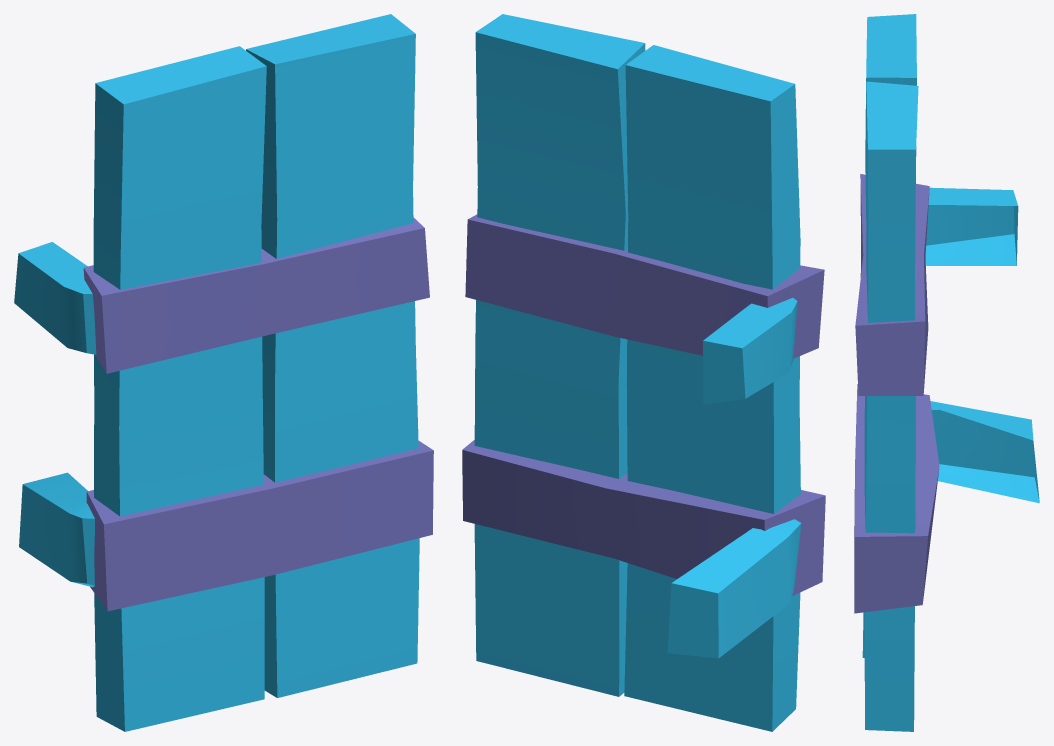
Rendered from Windows_shutters2_R.fbx.
3 renders of one model, left to right at view 1: azimuth 30°, elevation 25°; view 2: azimuth 150°, elevation 25°; view 3: azimuth 270°, elevation 25°, orthographic. The views are drawn at different scales.
Parts seen in each view (by area): view 1: Windows_shutters2_R; view 2: Windows_shutters2_R; view 3: Windows_shutters2_R.
Part boxes in pixels (left/top/right/bottom): Windows_shutters2_R: left=14, top=14, right=433, bottom=731; Windows_shutters2_R: left=462, top=14, right=825, bottom=731; Windows_shutters2_R: left=854, top=14, right=1039, bottom=731.
Size of the model in its own units: 123 by 225 by 64.43.
